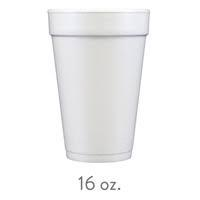Plastic cup: (39, 8, 179, 170)
